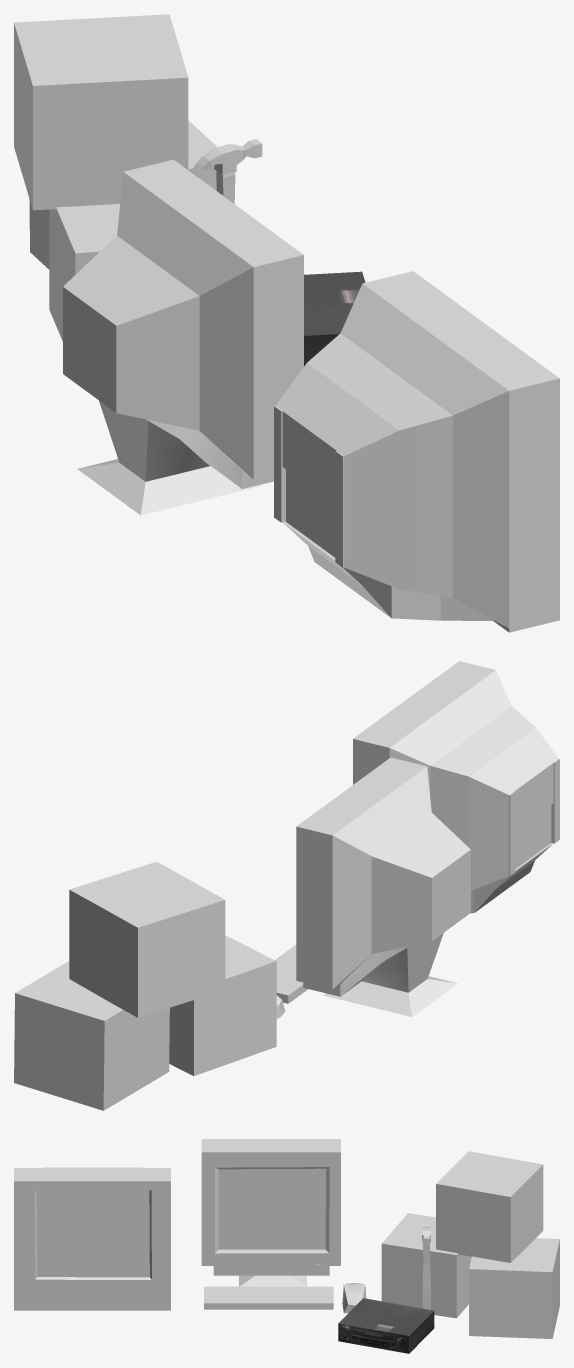
Rendered from psx-pack.glb.
3 renders of one model, top to bottom at view 1: azimuth 30°, elevation 25°; view 2: azimuth 150°, elevation 25°; view 3: azimuth 270°, elevation 25°, orthographic. The views are drawn at different scales.
Visible parts, largest first — view 1: TV - Base, Computer, Box - C, Box - B, Cube.009, Box - A, Hammer; view 2: Computer, TV - Base, Box - C, Box - A, Box - B; view 3: Computer, TV - Base, Box - C, TV - Screen, Box - A, Box - B, Cube.009, Hammer, Cube.004.
Part boxes in pixels (left/top/right/bottom): TV - Base: left=274, top=271, right=559, bottom=632; Computer: left=63, top=159, right=303, bottom=515; Box - C: left=14, top=14, right=188, bottom=210; Box - B: left=49, top=204, right=119, bottom=341; Cube.009: left=304, top=271, right=365, bottom=366; Box - A: left=29, top=120, right=217, bottom=269; Hammer: left=190, top=139, right=262, bottom=203; Computer: left=275, top=757, right=470, bottom=1018; TV - Base: left=353, top=661, right=559, bottom=913; Box - C: left=69, top=861, right=225, bottom=1017; Box - A: left=14, top=961, right=169, bottom=1110; Box - B: left=169, top=935, right=276, bottom=1075; Computer: left=201, top=1139, right=366, bottom=1313; TV - Base: left=14, top=1167, right=170, bottom=1310; Box - C: left=436, top=1151, right=543, bottom=1262; TV - Screen: left=36, top=1190, right=149, bottom=1277; Box - A: left=469, top=1238, right=559, bottom=1338; Box - B: left=381, top=1213, right=471, bottom=1318; Cube.009: left=338, top=1298, right=434, bottom=1353; Hammer: left=422, top=1227, right=431, bottom=1309; Cube.004: left=354, top=1327, right=392, bottom=1340.
Bounding box in the file's own units: 3.16 × 1.99 × 6.96.
5 materials, 1 textured.
